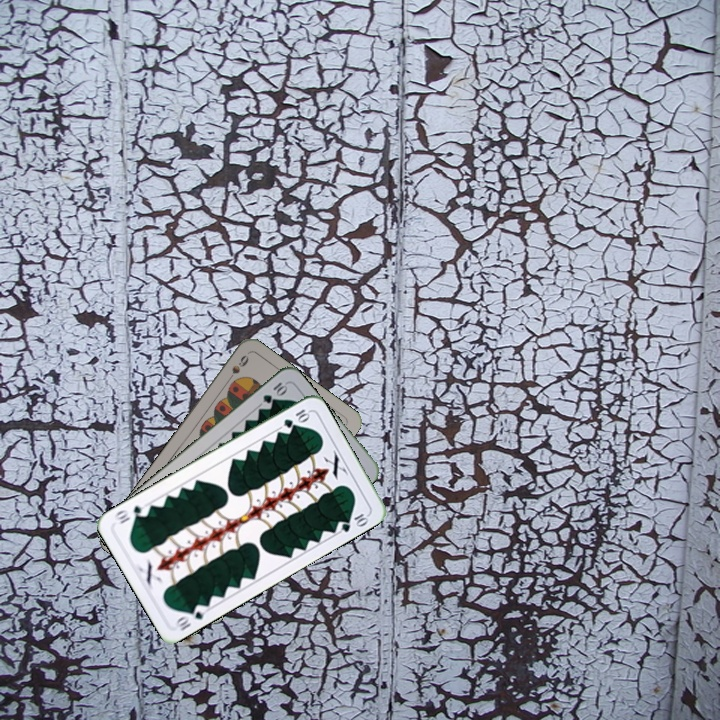G10: (170, 600, 207, 633), (259, 378, 290, 406), (279, 405, 312, 431)
S9: (222, 351, 252, 388)
